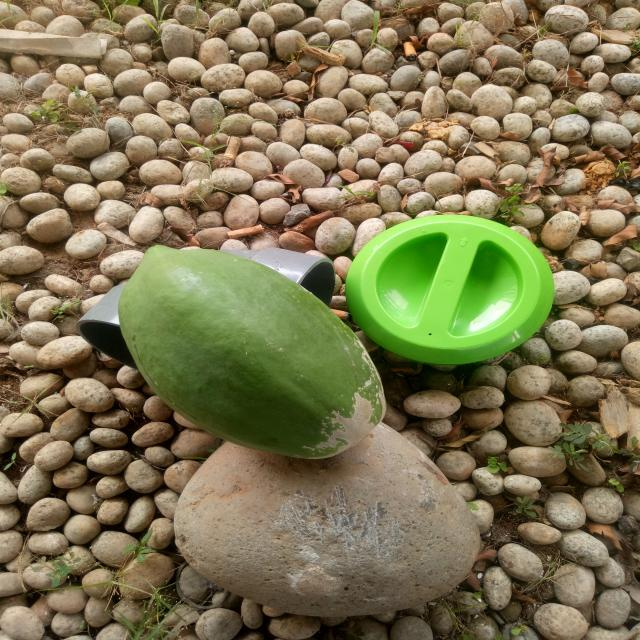Pepaya unrippen: (116, 240, 386, 458)
